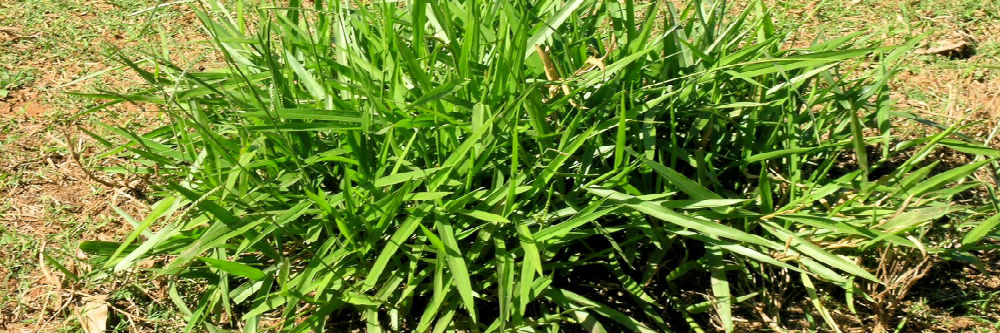crabgrass: (155, 19, 867, 331)
